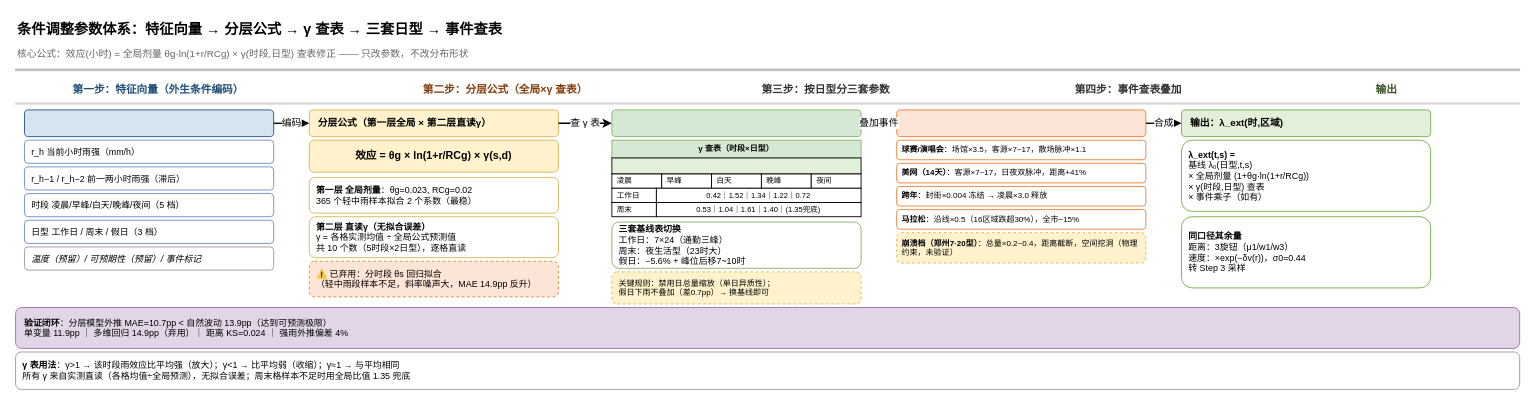
The diagram is 1535 pixels wide and 405 high, and some of its shapes have lost their labels. The shapes that lost their labels are listed below. From the top down, each one's box as (x1, y1, x2, y2) in pixels, then its label:
(24, 109, 274, 137): 特征向量 c
(611, 109, 861, 137): 三套日型参数表（γ 查表 + 基线切换）
(896, 109, 1146, 137): 事件查表（叠加在日型之上）
